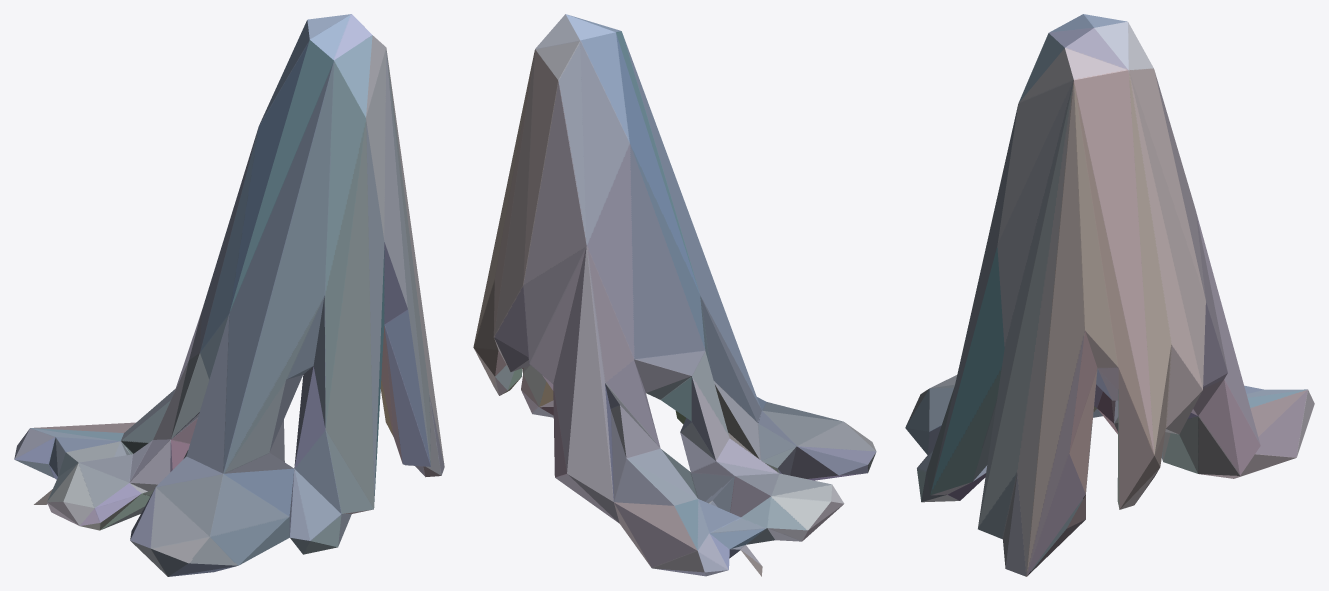
The model's file is ghost.fbx.
3 views of the same model, side by side, from view 1: azimuth 30°, elevation 25°; view 2: azimuth 150°, elevation 25°; view 3: azimuth 270°, elevation 25° (orthographic). The views are drawn at different scales.
Visible parts, largest first — view 1: Mesh_0; view 2: Mesh_0; view 3: Mesh_0.
Part boxes in pixels (x1,y1,x2,y2): Mesh_0: (14,14,444,576); Mesh_0: (473,14,876,576); Mesh_0: (905,14,1314,576).
Bounding box in the file's own units: 124 × 161 × 110.
Materials: 1 (1 with a texture image).
